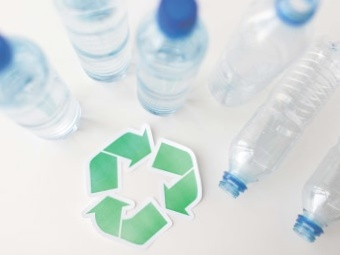plastic: (133, 0, 210, 125)
